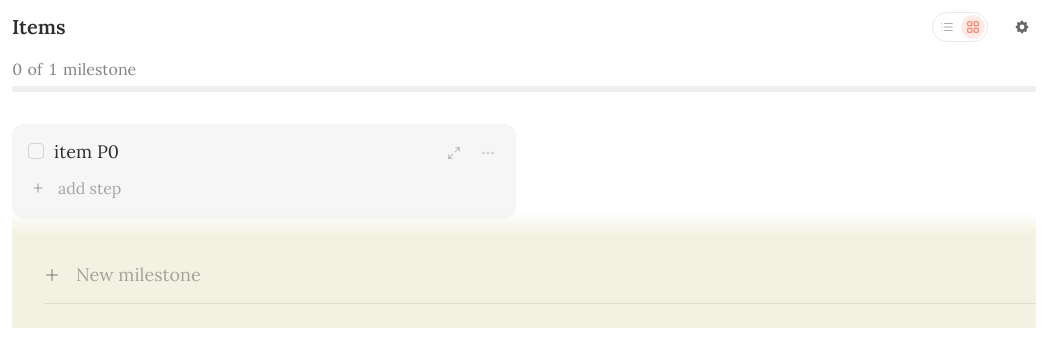
Scenario: Todo settings — relation not known › should hide Sharing while getPlan has not answered
Expected: the text "item P0" is shown, left=54, top=140, right=119, bottom=163
Step 1. Click the button titled "Settings" → click(1022, 27), box left=1008, top=13, right=1036, bottom=41
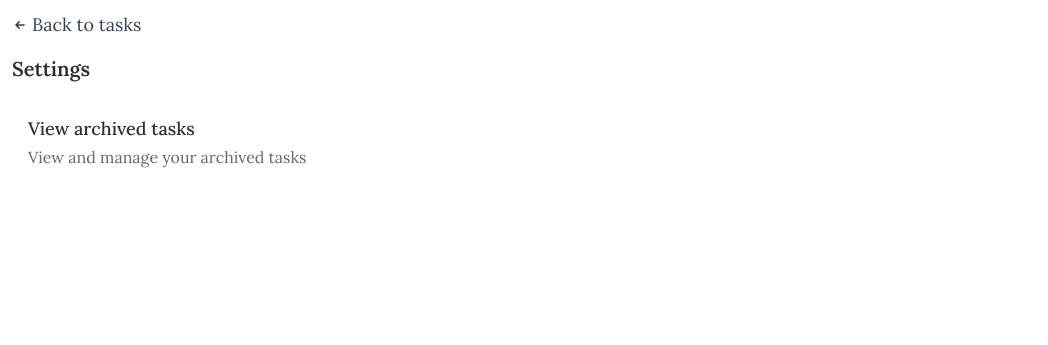
Expected: the button "View archived tasks View and manage your archived tasks" is shown, left=12, top=100, right=1036, bottom=184
